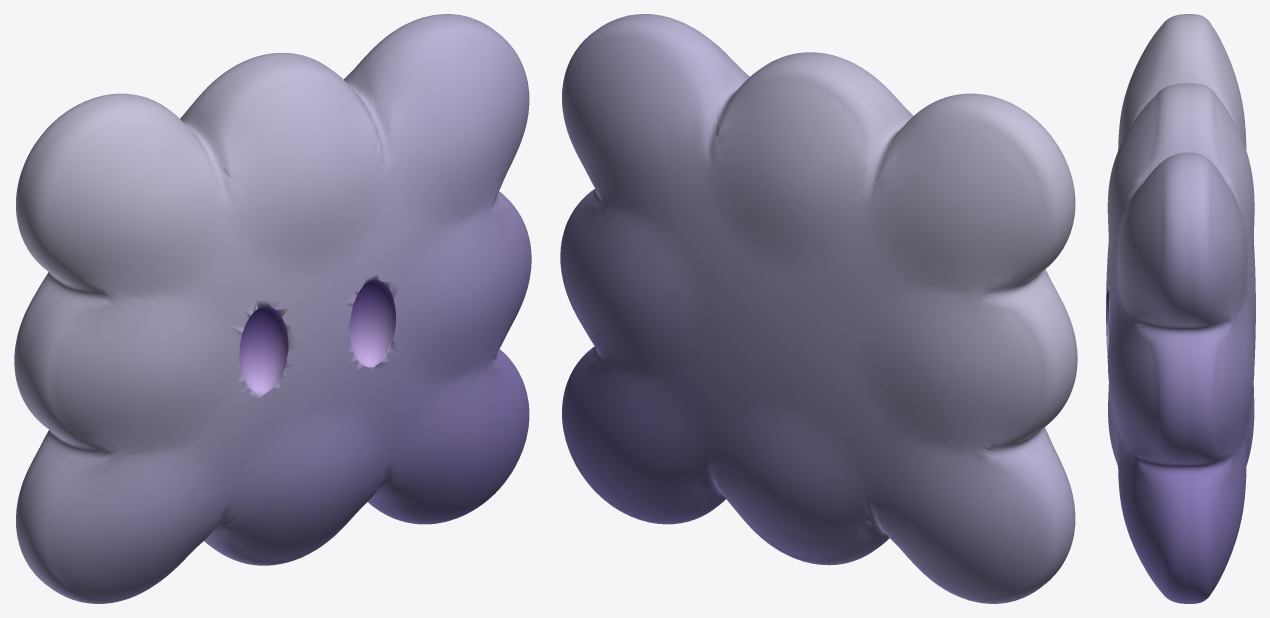
The model's file is reviewer.glb.
3 views of the same model, side by side, from view 1: azimuth 30°, elevation 25°; view 2: azimuth 150°, elevation 25°; view 3: azimuth 270°, elevation 25° (orthographic). The views are drawn at different scales.
Parts seen in each view (by area): view 1: Reviewer; view 2: Reviewer; view 3: Reviewer.
Part boxes in pixels (bbox=[...]): Reviewer: bbox=[14, 14, 531, 603]; Reviewer: bbox=[560, 14, 1077, 603]; Reviewer: bbox=[1106, 14, 1255, 603].
Bounding box in the file's own units: 2.29 × 2.18 × 0.6798.
